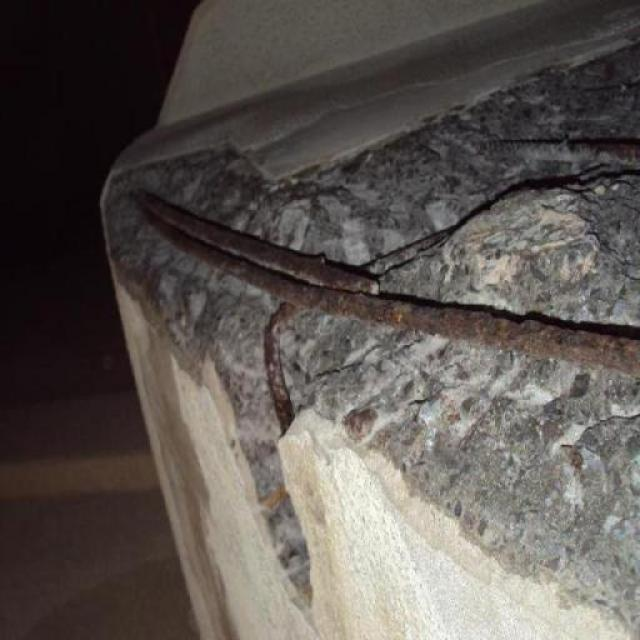D0w0: (101, 41, 639, 639)
